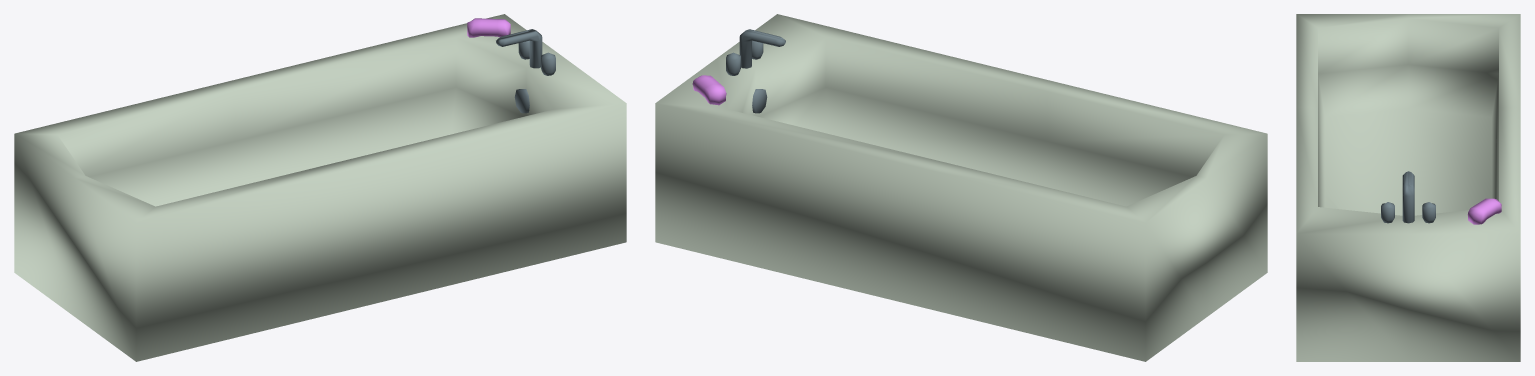
The model's file is Bathtub_bathroom_v1.fbx.
The picture shows the model from 3 angles, left to right: view 1: azimuth 30°, elevation 25°; view 2: azimuth 150°, elevation 25°; view 3: azimuth 270°, elevation 25°; orthographic projection. The views are drawn at different scales.
Visible parts, largest first — view 1: Cube, Tap, Cube.003, Tap tempeture; view 2: Cube, Tap, Cube.003, Tap tempeture; view 3: Cube, Tap, Cube.003, Tap tempeture.
Boxes of the visible parts, x1,y1,x2,y2 form: Cube: [14, 14, 626, 361]; Tap: [496, 29, 542, 68]; Cube.003: [467, 18, 510, 37]; Tap tempeture: [518, 40, 555, 75]; Cube: [655, 14, 1267, 361]; Tap: [739, 29, 785, 68]; Cube.003: [692, 75, 726, 105]; Tap tempeture: [726, 40, 763, 75]; Cube: [1296, 14, 1520, 361]; Tap: [1402, 171, 1414, 223]; Cube.003: [1467, 198, 1501, 224]; Tap tempeture: [1381, 202, 1435, 223].
Size of the model in its own units: 214 by 72.73 by 92.1.
